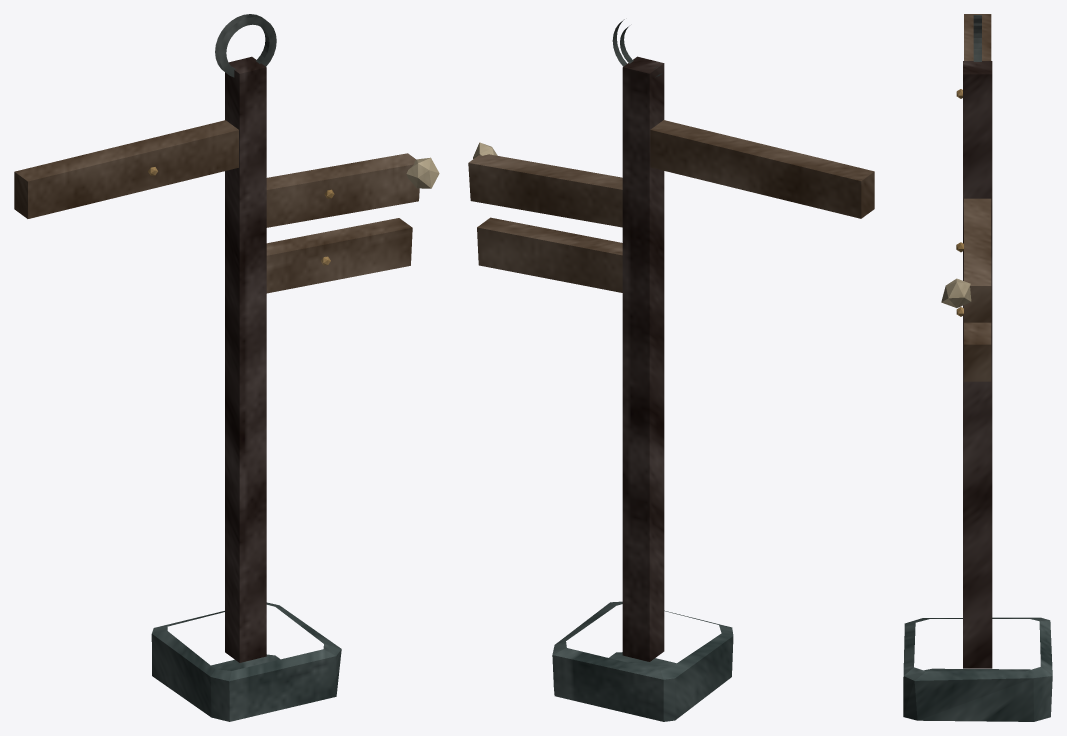
Rendered from 0626_signpost_01.glb.
3 renders of one model, left to right at view 1: azimuth 30°, elevation 25°; view 2: azimuth 150°, elevation 25°; view 3: azimuth 270°, elevation 25°, orthographic.
Visible parts, largest first — view 1: wood, wood_dark, stone_dark, iron, bone; view 2: wood, wood_dark, stone_dark; view 3: wood_dark, stone_dark, wood, bone, iron.
Boxes of the visible parts, x1,y1,x2,y2 form: wood: (14,120,419,293); wood_dark: (225,56,266,662); stone_dark: (151,602,341,721); iron: (215,14,276,77); bone: (406,157,439,188); wood: (468,120,874,292); wood_dark: (622,56,664,661); stone_dark: (552,601,733,721); wood_dark: (963,61,992,668); stone_dark: (903,617,1052,721); wood: (964,14,991,381); bone: (941,278,971,307); iron: (973,15,981,61).
Bounding box in the file's own units: 2.24 × 3.56 × 0.7133.
Materials: 6 (6 with a texture image).
